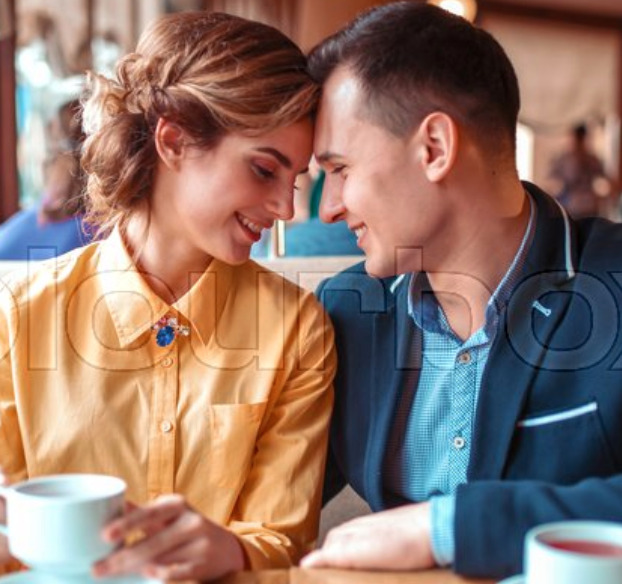Bad: (1, 2, 622, 474)
